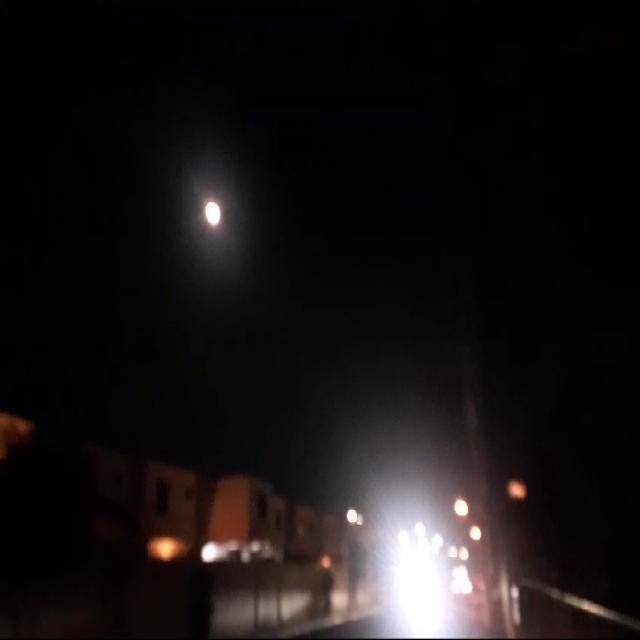moon: (203, 194, 222, 228)
